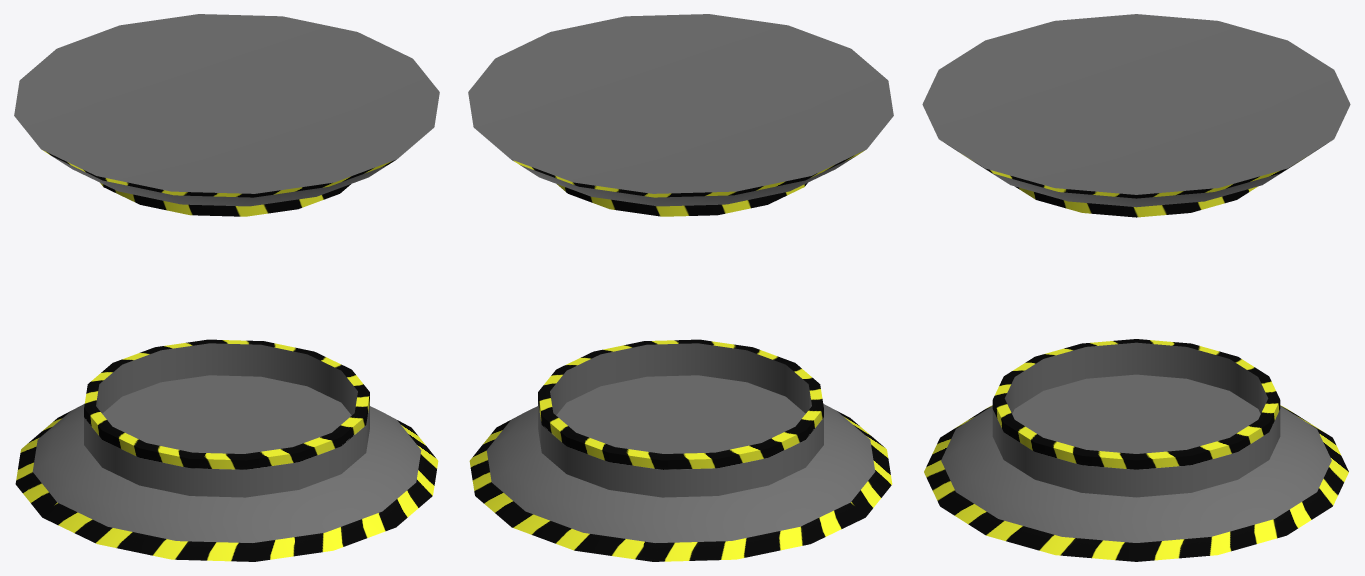
File: mainchamber.fbx
The picture shows the model from 3 angles, left to right: view 1: azimuth 30°, elevation 25°; view 2: azimuth 150°, elevation 25°; view 3: azimuth 270°, elevation 25°; orthographic projection.
Parts seen in each view (by area): view 1: mainchamber; view 2: mainchamber; view 3: mainchamber.
Part boxes in pixels (<box>): mainchamber: <box>14,14,439,561</box>; mainchamber: <box>468,14,893,561</box>; mainchamber: <box>922,14,1350,561</box>.
Size of the model in its own units: 814 by 771 by 814.
